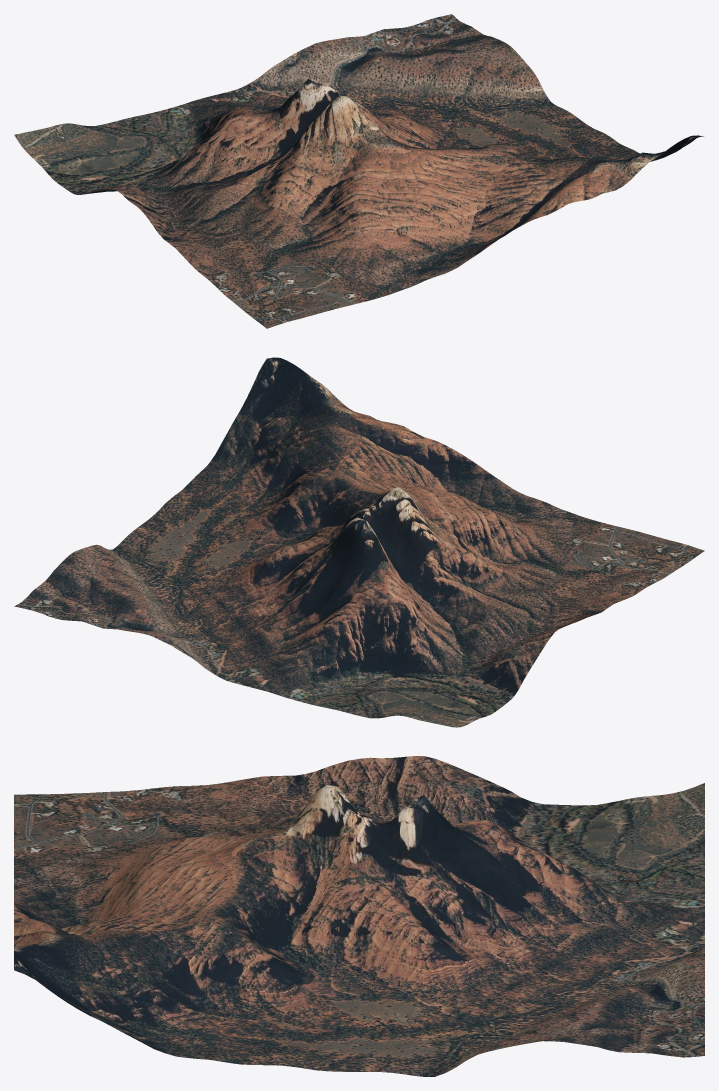
The model's file is CathedralRock-noBake.glb.
The picture shows the model from 3 angles, top to bottom: view 1: azimuth 30°, elevation 25°; view 2: azimuth 150°, elevation 25°; view 3: azimuth 270°, elevation 25°; orthographic projection. The views are drawn at different scales.
Parts seen in each view (by area): view 1: EXPORT_BING_SAT_WM; view 2: EXPORT_BING_SAT_WM; view 3: EXPORT_BING_SAT_WM.
Boxes of the visible parts, left/top/right/bottom form: EXPORT_BING_SAT_WM: left=14, top=14, right=703, bottom=328; EXPORT_BING_SAT_WM: left=14, top=357, right=704, bottom=727; EXPORT_BING_SAT_WM: left=14, top=756, right=704, bottom=1076.
Bounding box in the file's own units: 2446 × 579 × 2446.
Materials: 1 (1 with a texture image).
